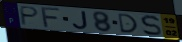8: (92, 10, 113, 33)
D: (117, 13, 139, 34)
F: (40, 7, 62, 29)
J: (71, 10, 90, 31)
P: (20, 6, 40, 27)
S: (140, 14, 163, 37)
